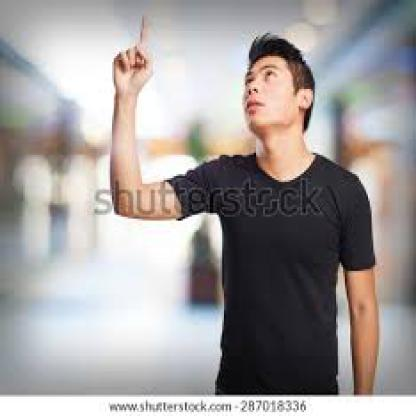Up: (104, 12, 160, 87)
